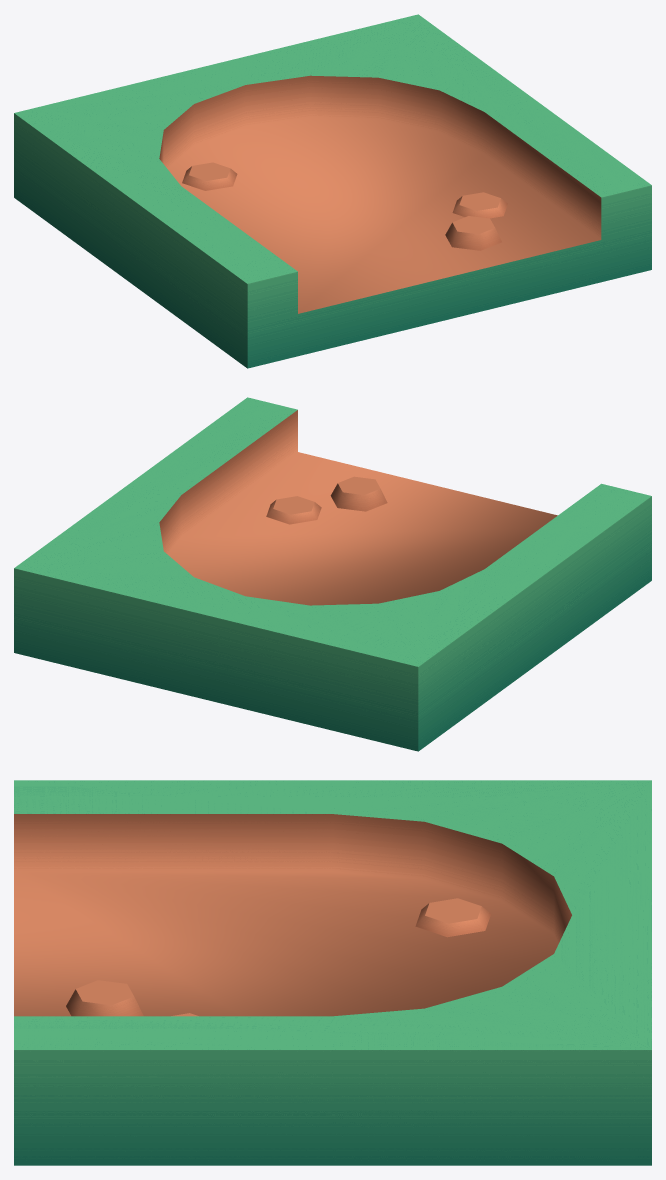
File: tower-defense-kit--tile-end-round.glb
The picture shows the model from 3 angles, top to bottom: view 1: azimuth 30°, elevation 25°; view 2: azimuth 150°, elevation 25°; view 3: azimuth 270°, elevation 25°; orthographic projection. The views are drawn at different scales.
Parts seen in each view (by area): view 1: tile-end-round; view 2: tile-end-round; view 3: tile-end-round.
Part boxes in pixels (bbox=[...]): tile-end-round: bbox=[14, 14, 651, 368]; tile-end-round: bbox=[14, 397, 651, 751]; tile-end-round: bbox=[14, 780, 651, 1165].
Bounding box in the file's own units: 1 × 0.2 × 1.
1 material, 1 textured.
